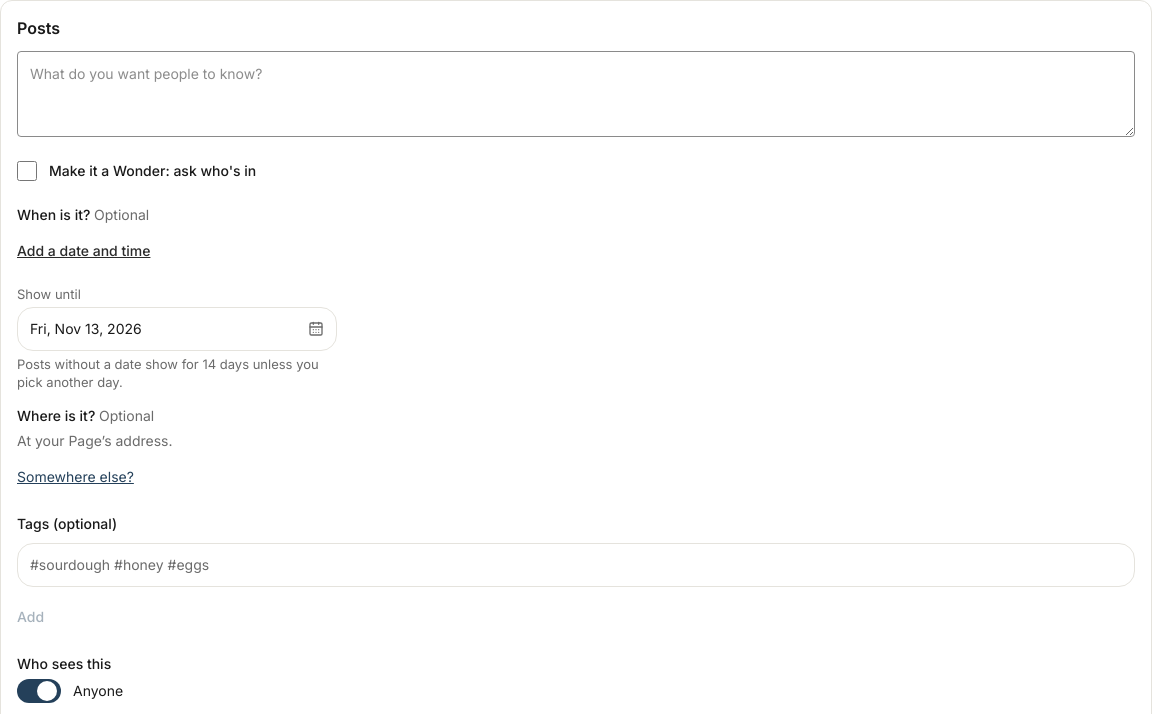
Test case: #314 — show until, on an undated post › a dated post has no show-until day: it shows until it ends
This screenshot has width=1152, height=714.
Click the button with test id "announce-add-when". click: (84, 251)
box: 17,229 -> 150,273
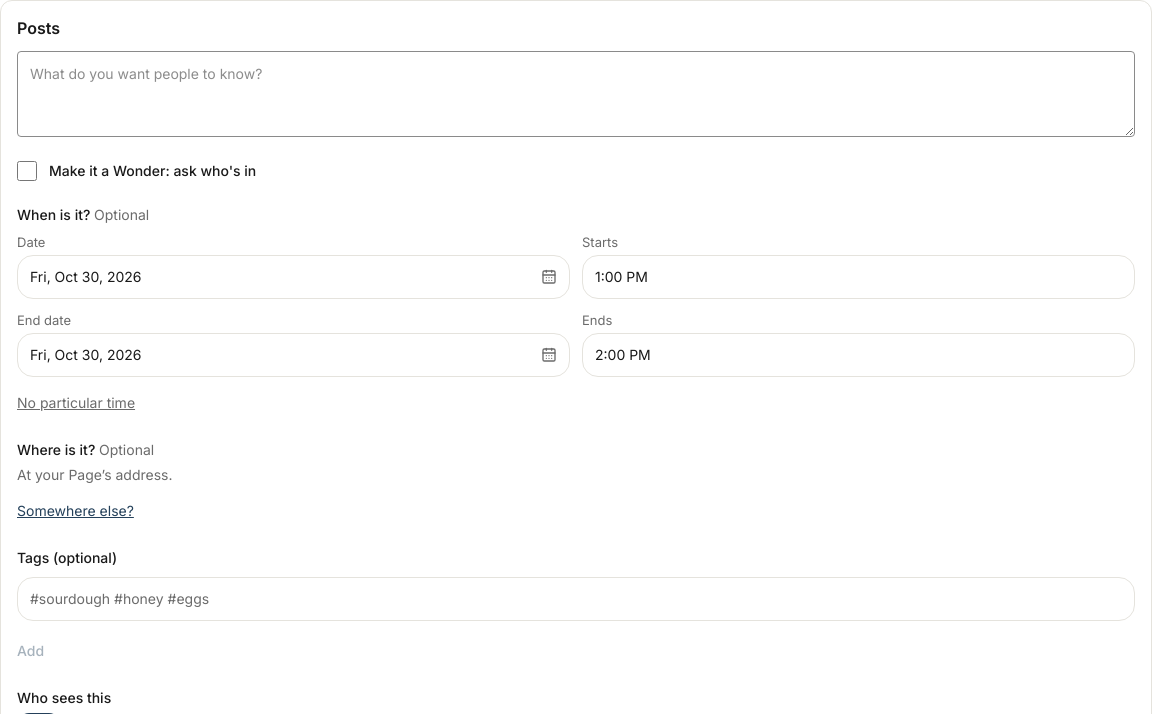
Result: the button with test id "announce-show-until" is gone
